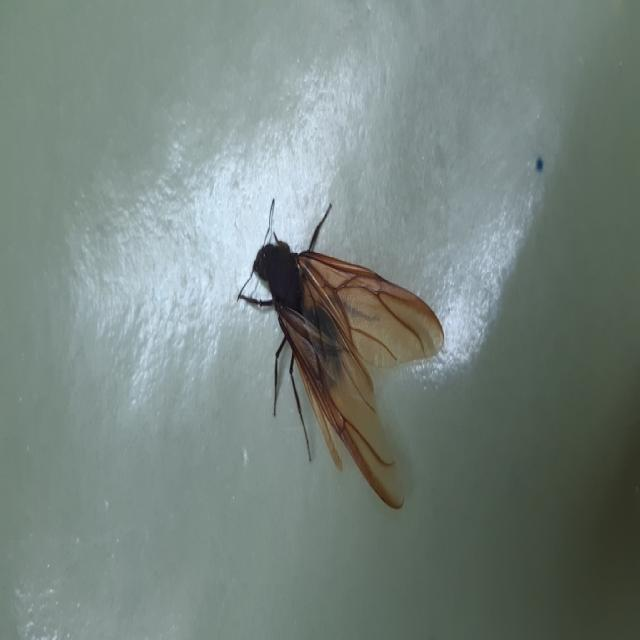Alive-Female-Alate: (236, 198, 444, 511)
